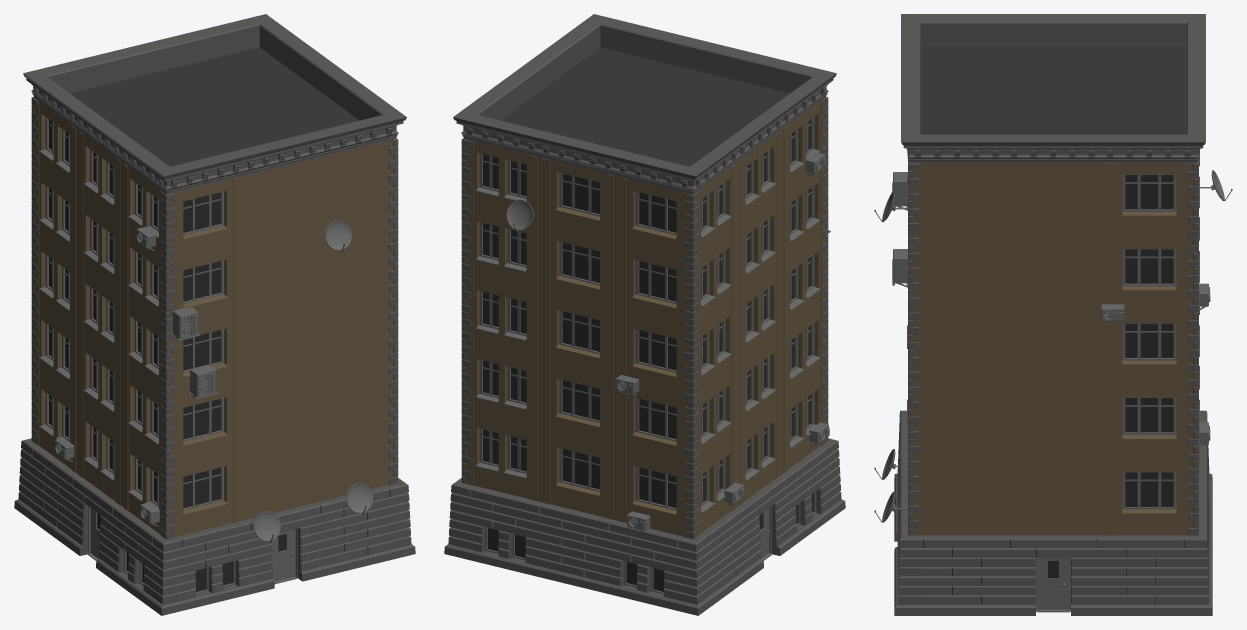
File: Building2.fbx
3 renders of one model, left to right at view 1: azimuth 30°, elevation 25°; view 2: azimuth 150°, elevation 25°; view 3: azimuth 270°, elevation 25°, orthographic. The views are drawn at different scales.
Parts seen in each view (by area): view 1: Building1; view 2: Building1; view 3: Building1.
Boxes of the visible parts, x1=… form: Building1: x1=14, y1=14, x2=415, y2=615; Building1: x1=444, y1=14, x2=845, y2=615; Building1: x1=874, y1=14, x2=1232, y2=615.
Bounding box in the file's own units: 1159 × 1901 × 1310.
